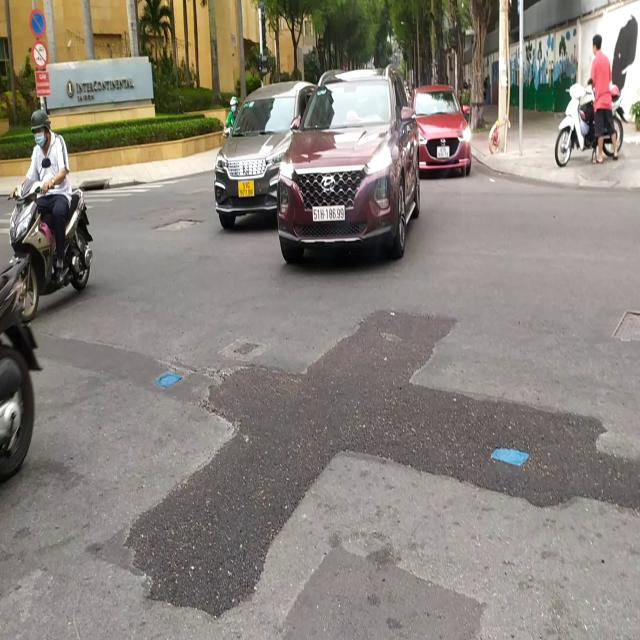bien_trang: (312, 206, 346, 224)
bien_vang: (237, 179, 256, 199)
